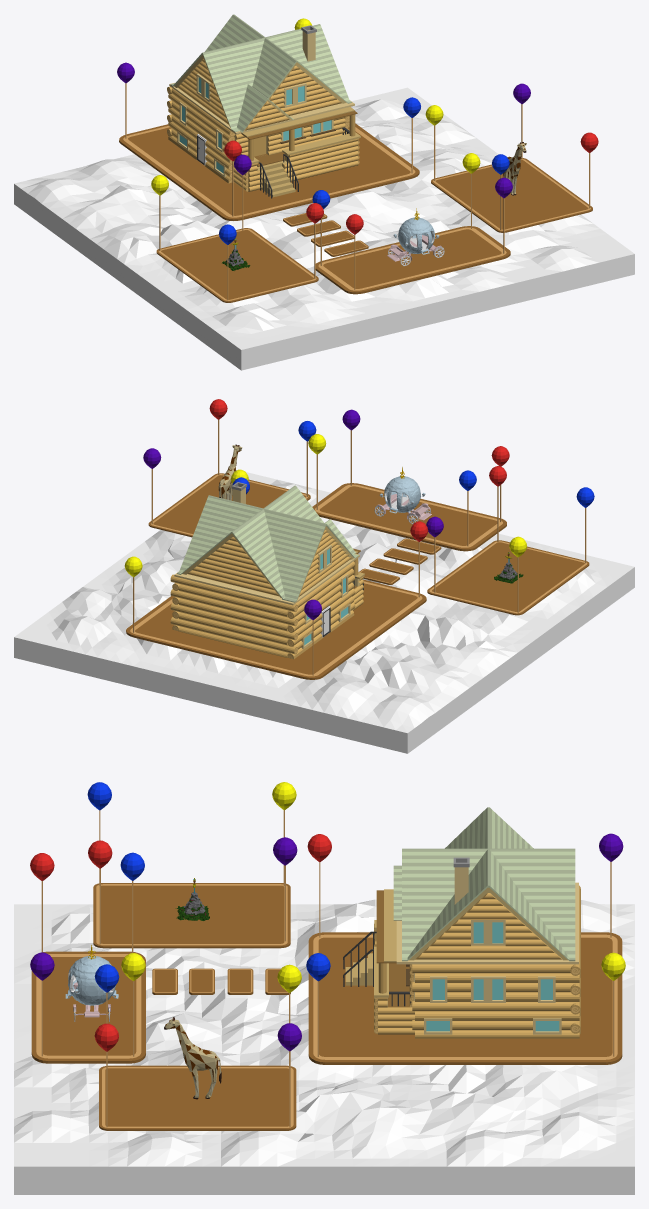
3 renders of one model, top to bottom at view 1: azimuth 30°, elevation 25°; view 2: azimuth 150°, elevation 25°; view 3: azimuth 270°, elevation 25°, orthographic. The views are drawn at different scales.
Visible parts, largest first — view 1: Cube.013, Cube.1516, VEHICLES_FANTASY_CARRIAGE, ANIMAL_JIRAFA; view 2: Cube.013, Cube.1516, VEHICLES_FANTASY_CARRIAGE, ANIMAL_JIRAFA; view 3: Cube.013, Cube.1516, VEHICLES_FANTASY_CARRIAGE, ANIMAL_JIRAFA, OBJRANDOM_SWORD_IN_THE_STONE.
Boxes of the visible parts, box(x1,y1,x2,y2) form: Cube.013: box(14, 18, 634, 370); Cube.1516: box(167, 14, 360, 198); VEHICLES_FANTASY_CARRIAGE: box(387, 208, 444, 265); ANIMAL_JIRAFA: box(503, 142, 526, 195); Cube.013: box(14, 399, 634, 753); Cube.1516: box(170, 482, 364, 659); VEHICLES_FANTASY_CARRIAGE: box(374, 467, 431, 524); ANIMAL_JIRAFA: box(218, 444, 242, 500); Cube.013: box(14, 782, 634, 1194); Cube.1516: box(343, 807, 580, 1038); VEHICLES_FANTASY_CARRIAGE: box(65, 945, 118, 1021); ANIMAL_JIRAFA: box(164, 1017, 221, 1099); OBJRANDOM_SWORD_IN_THE_STONE: box(175, 878, 209, 920).
Bounding box in the file's own units: 4000 × 1638 × 4000.
40 materials, 3 textured.
